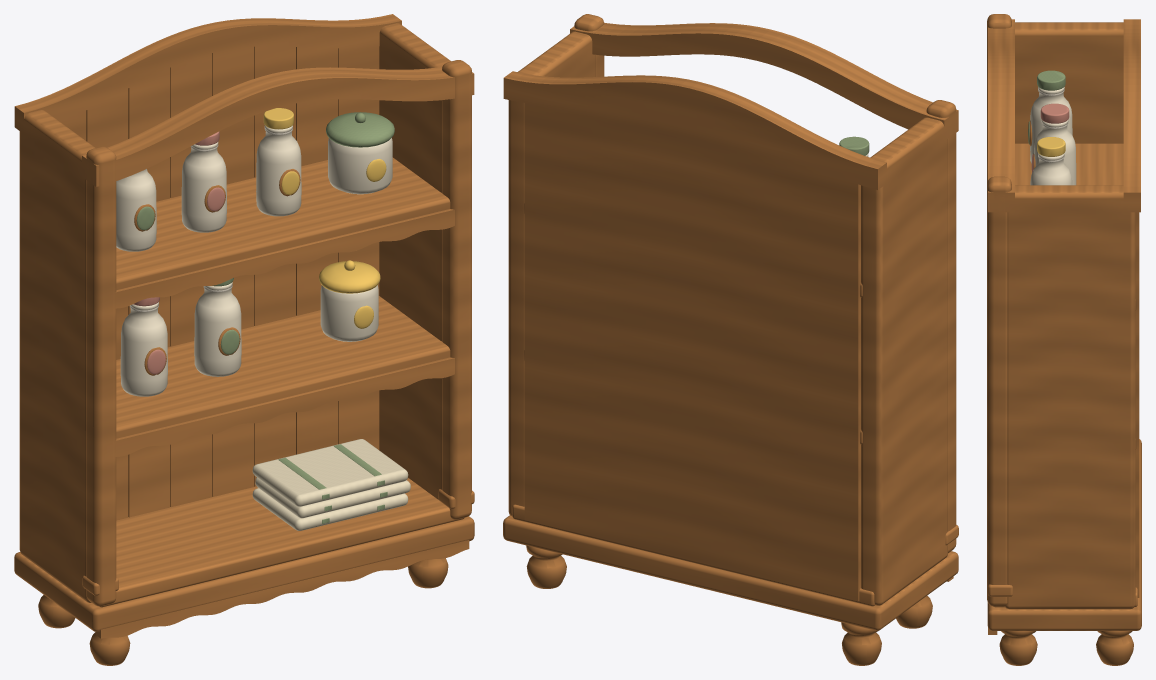
The model's file is MilkShelf.fbx.
3 views of the same model, side by side, from view 1: azimuth 30°, elevation 25°; view 2: azimuth 150°, elevation 25°; view 3: azimuth 270°, elevation 25° (orthographic). The views are drawn at different scales.
Parts seen in each view (by area): view 1: MilkShelf; view 2: MilkShelf; view 3: MilkShelf.
Part boxes in pixels (bbox=[...]): MilkShelf: bbox=[14, 14, 474, 665]; MilkShelf: bbox=[503, 14, 958, 665]; MilkShelf: bbox=[987, 14, 1141, 665].
Bounding box in the file's own units: 102 × 140 × 38.15.
Materials: 1 (1 with a texture image).
